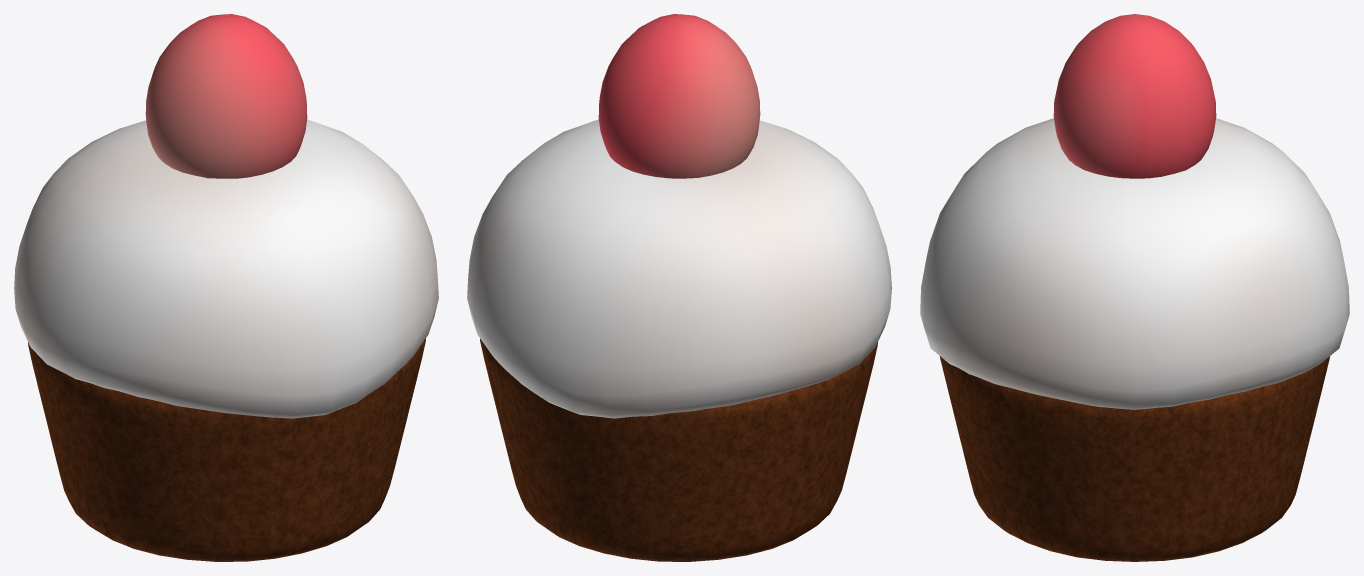
The model's file is StrawberrySpongeCake.fbx.
3 renders of one model, left to right at view 1: azimuth 30°, elevation 25°; view 2: azimuth 150°, elevation 25°; view 3: azimuth 270°, elevation 25°, orthographic.
Parts seen in each view (by area): view 1: Cake; view 2: Cake; view 3: Cake.
Part boxes in pixels (x1,y1,x2,y2): Cake: (14,14,438,561); Cake: (467,14,891,561); Cake: (920,14,1349,561).
Bounding box in the file's own units: 0.1996 × 0.2492 × 0.2001.
